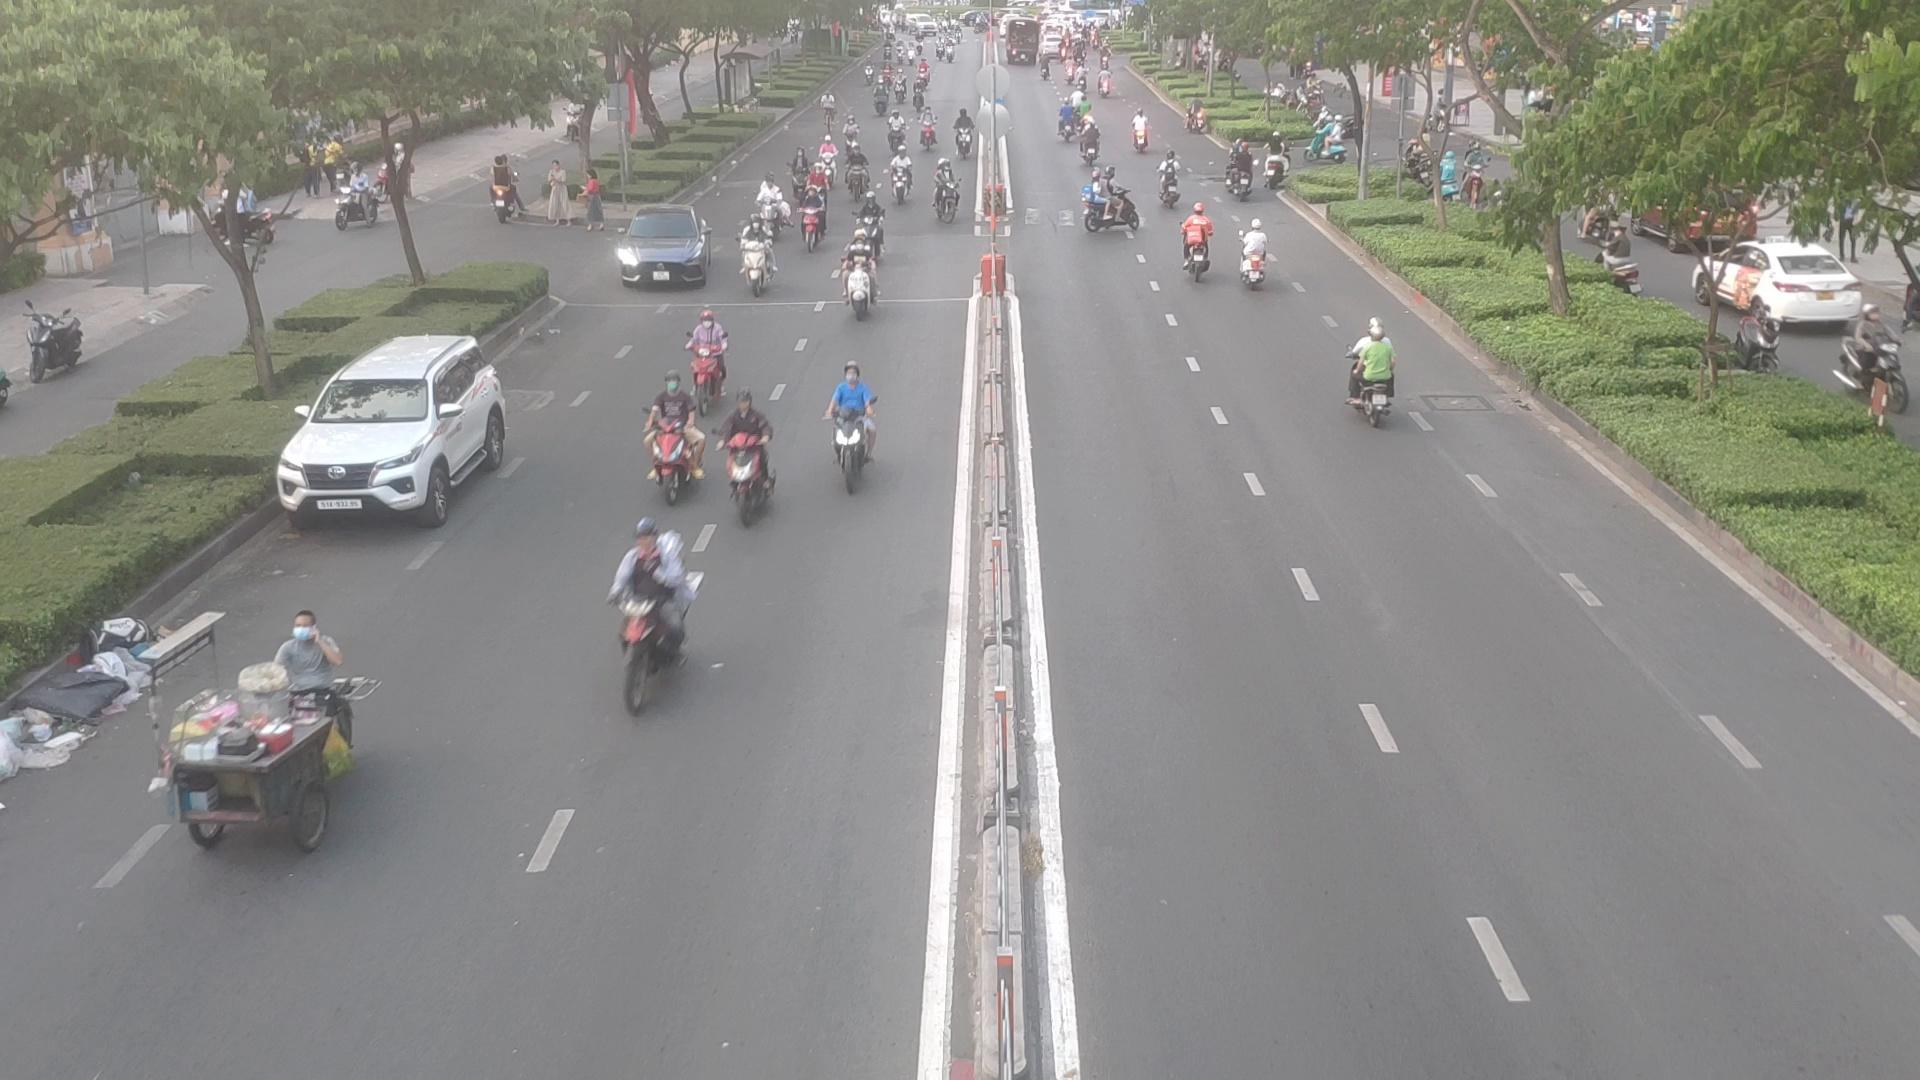car: (276, 340, 520, 520), (611, 214, 721, 287)
motorbike: (597, 530, 708, 711), (638, 389, 713, 505), (717, 389, 777, 520), (819, 373, 884, 491), (1341, 332, 1408, 433), (669, 318, 736, 405), (835, 258, 882, 323), (1080, 187, 1133, 240), (1238, 233, 1280, 295), (738, 243, 773, 297), (1156, 158, 1191, 207), (800, 207, 831, 253), (1229, 162, 1261, 203), (1133, 113, 1162, 152), (1054, 108, 1083, 142)
